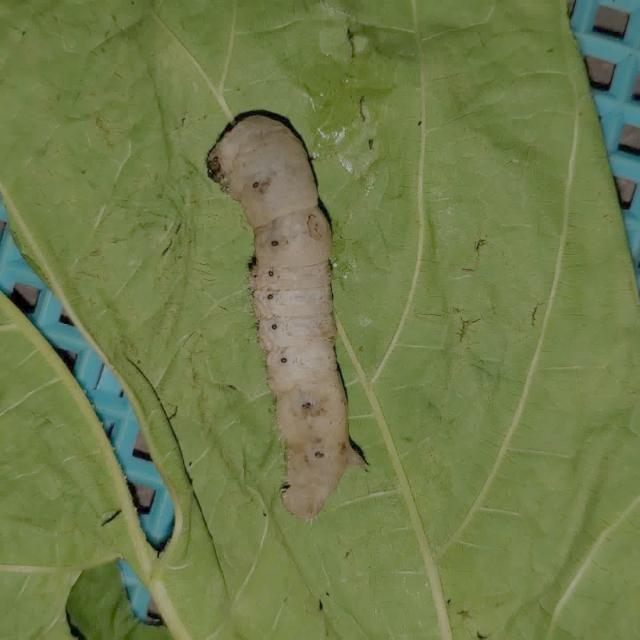Grasserie: (188, 60, 404, 538)
